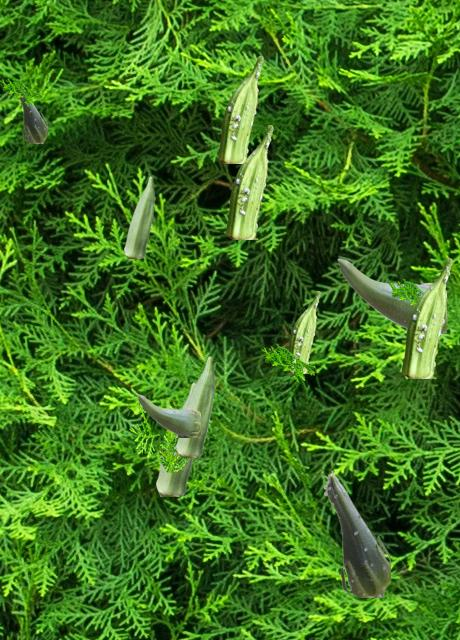okra: (323, 470, 389, 596), (337, 258, 445, 332), (402, 258, 451, 377), (226, 125, 272, 238), (218, 56, 262, 162), (156, 382, 195, 495), (176, 356, 213, 456), (137, 394, 199, 436), (288, 291, 319, 372), (124, 176, 153, 257), (19, 98, 46, 142)
